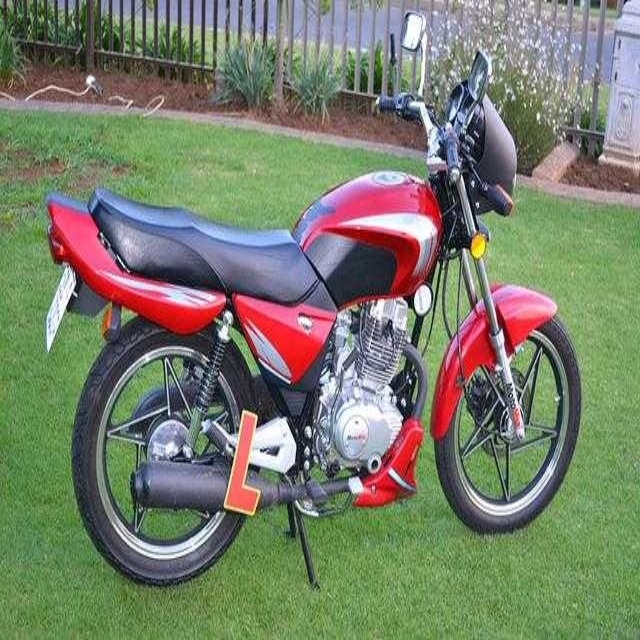Motorcycle: (42, 9, 582, 590)
